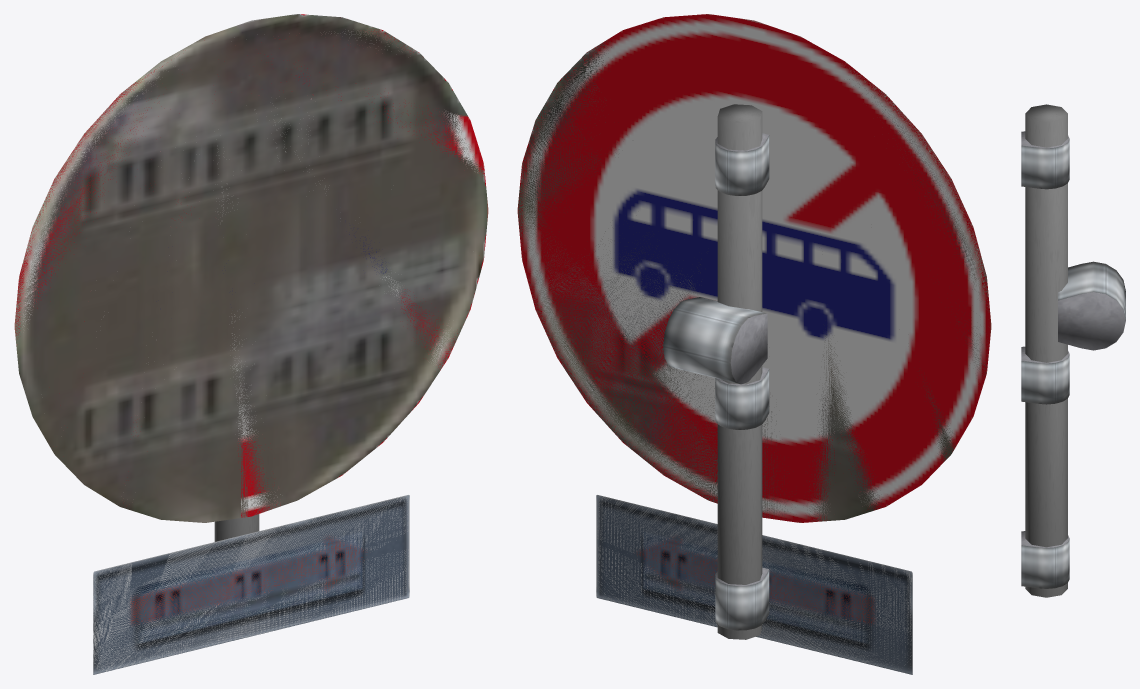
The model's file is Parts_Plate_Circle900+Sub600.fbx.
The picture shows the model from 3 angles, left to right: view 1: azimuth 30°, elevation 25°; view 2: azimuth 150°, elevation 25°; view 3: azimuth 270°, elevation 25°; orthographic projection. The views are drawn at different scales.
Parts seen in each view (by area): view 1: 990_plate_circle900+sub600; view 2: 990_plate_circle900+sub600; view 3: 990_plate_circle900+sub600.
Boxes of the visible parts, x1,y1,x2,y2 form: 990_plate_circle900+sub600: (14,14,488,674); 990_plate_circle900+sub600: (517,14,991,674); 990_plate_circle900+sub600: (1021,104,1125,597).
Size of the model in its own units: 0.9 by 1.12 by 0.1891.
